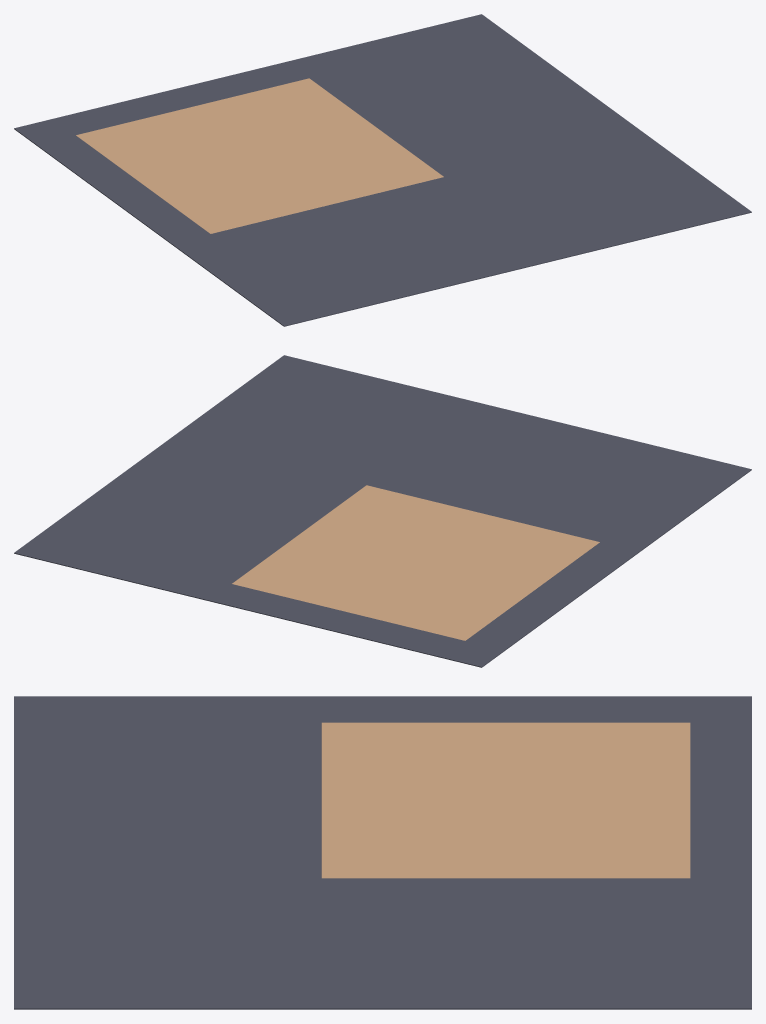
The model's file is ground.glb.
3 views of the same model, one above another, from view 1: azimuth 30°, elevation 25°; view 2: azimuth 150°, elevation 25°; view 3: azimuth 270°, elevation 25° (orthographic). The views are drawn at different scales.
Parts seen in each view (by area): view 1: ground, sidewalk; view 2: ground, sidewalk; view 3: ground, sidewalk.
Part boxes in pixels (x1,y1,x2,y2): ground: [14, 14, 751, 326]; sidewalk: [76, 78, 443, 233]; ground: [14, 355, 751, 667]; sidewalk: [232, 485, 599, 640]; ground: [14, 696, 751, 1009]; sidewalk: [321, 722, 690, 878].
Size of the model in its own units: 60 by 0.12 by 60.
